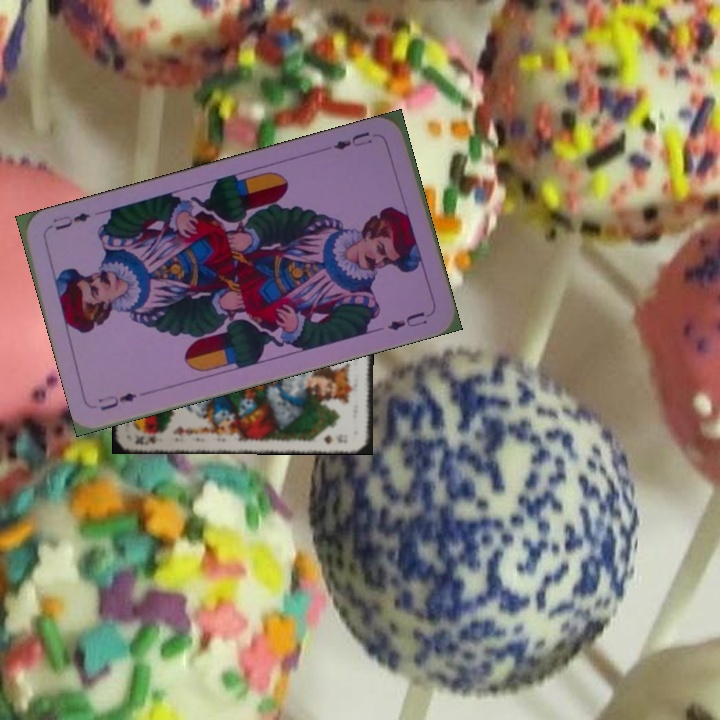EU: (329, 127, 375, 153), (94, 388, 139, 413)
SK: (131, 431, 158, 448)
